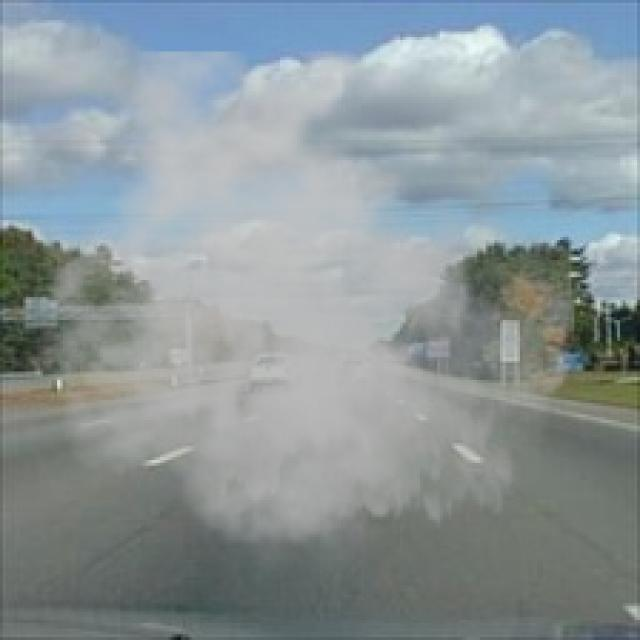smoke: (20, 52, 577, 597)
